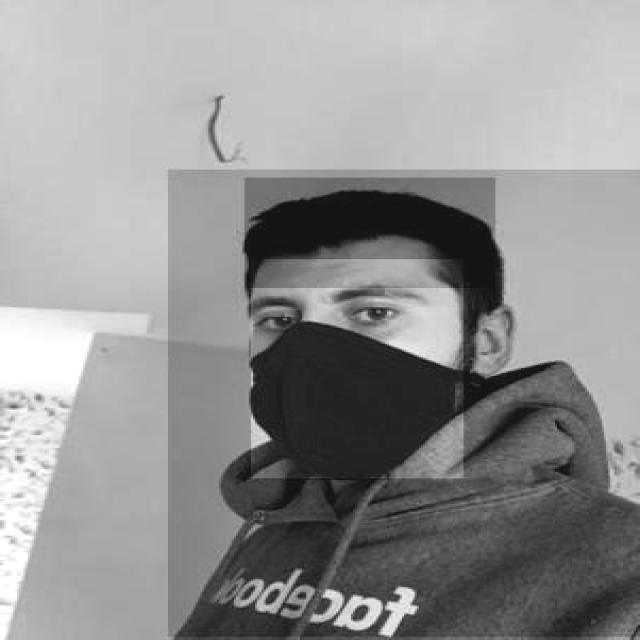face_mask: (251, 260, 463, 478)
head_nohelmet: (244, 178, 496, 288)
person: (166, 170, 640, 638)
